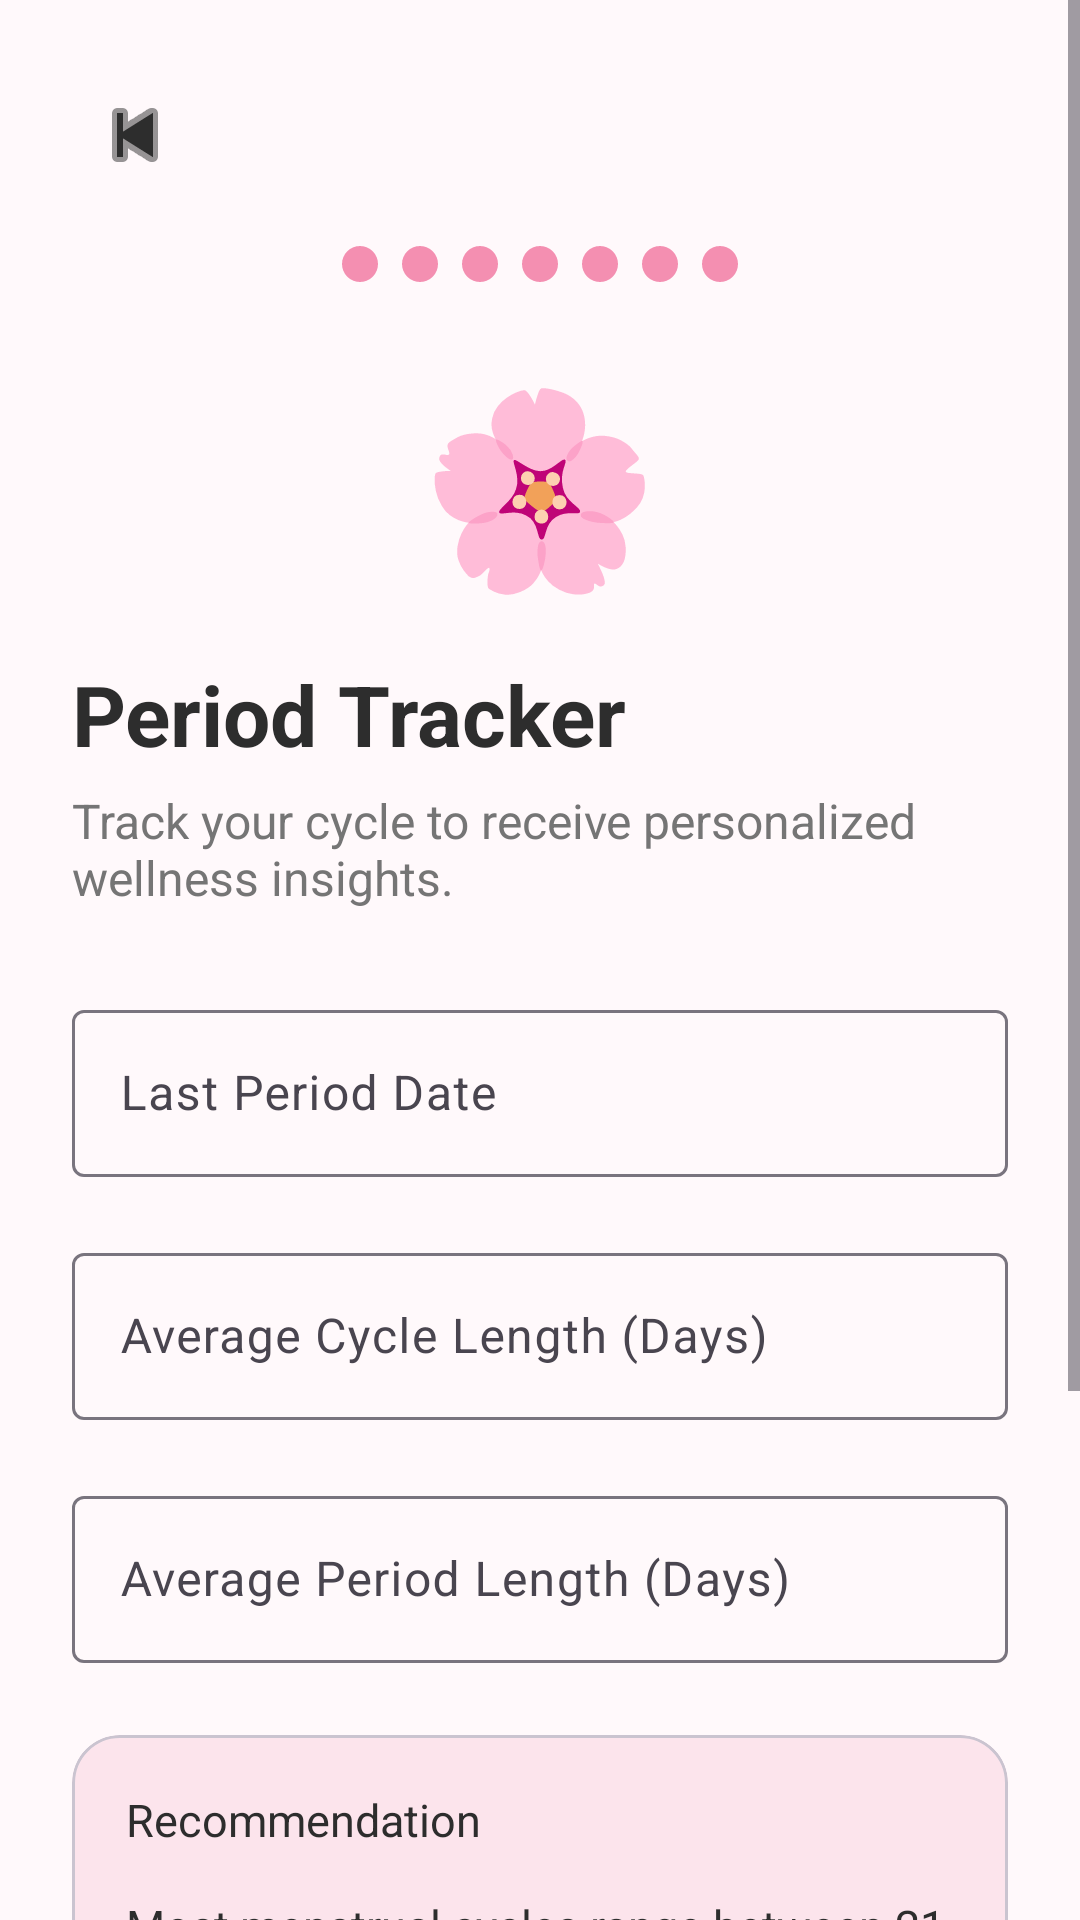

Where to tap for icons on this 1080px x 1920px app screen, as (x=x, y=y):
Back: (x=135, y=135)
